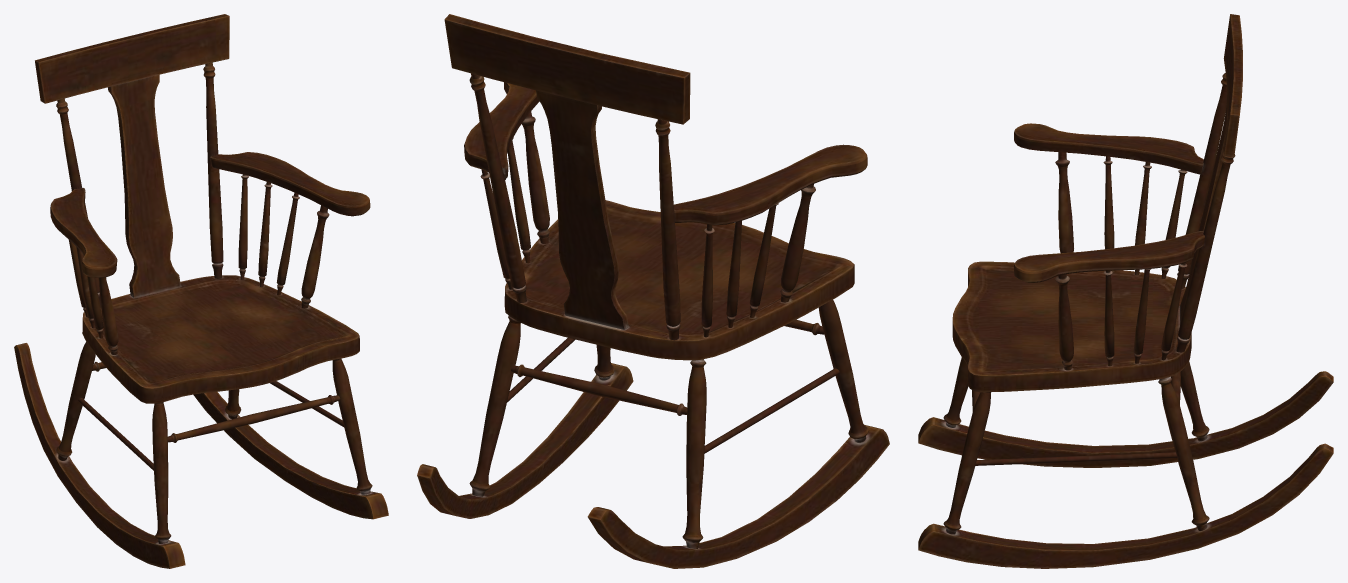
File: rocking_chair.glb
The picture shows the model from 3 angles, left to right: view 1: azimuth 30°, elevation 25°; view 2: azimuth 150°, elevation 25°; view 3: azimuth 270°, elevation 25°; orthographic projection. The views are drawn at different scales.
Visible parts, largest first — view 1: Rockingchair_01; view 2: Rockingchair_01; view 3: Rockingchair_01.
Boxes of the visible parts, x1,y1,x2,y2 form: Rockingchair_01: [14, 14, 388, 568]; Rockingchair_01: [417, 14, 889, 568]; Rockingchair_01: [918, 14, 1333, 568].
Size of the model in its own units: 0.7081 by 0.9949 by 0.8335.
1 material, 1 textured.
